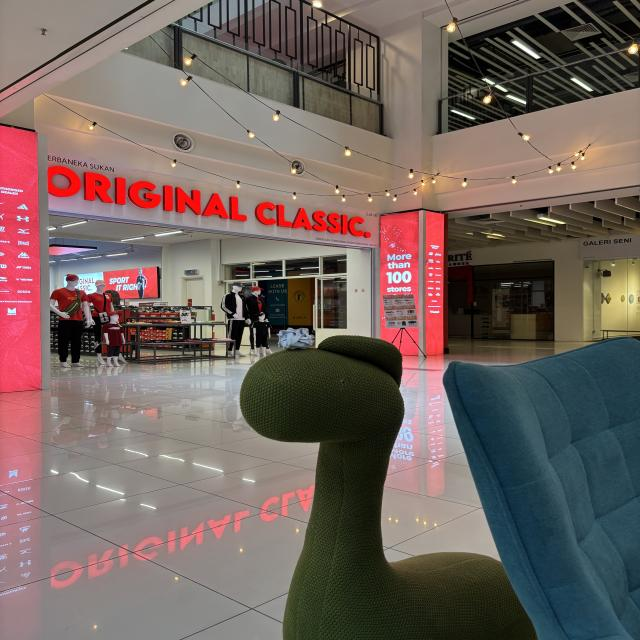crumpled_paper: (276, 327, 316, 350)
